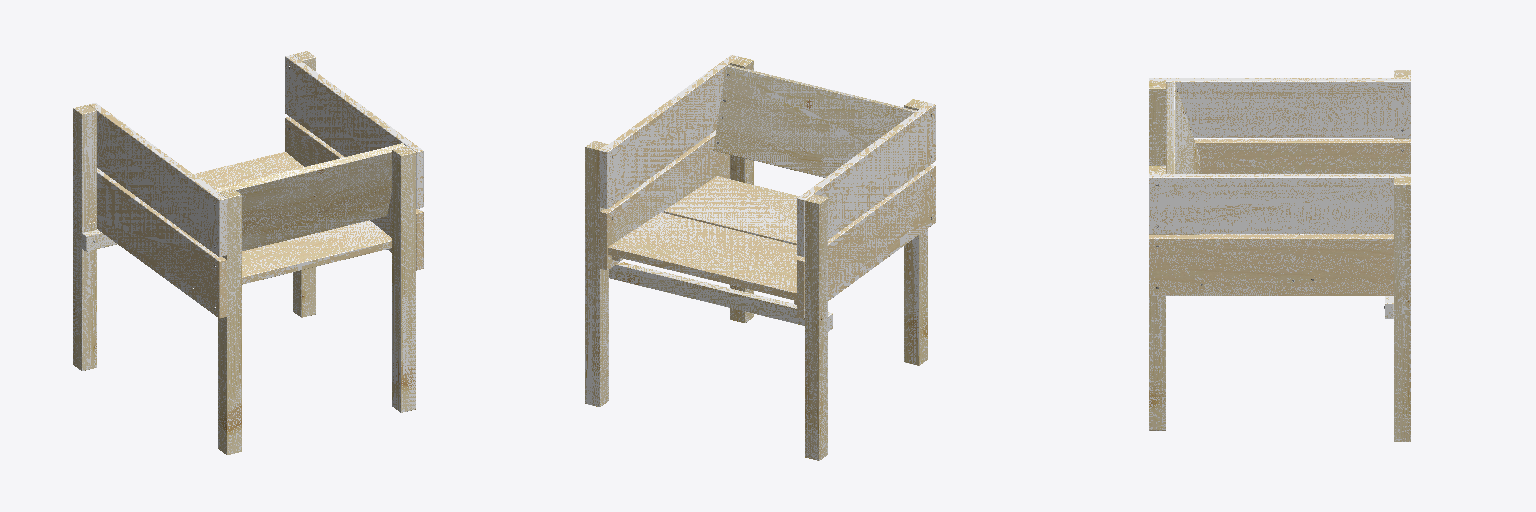
3 renders of one model, left to right at view 1: azimuth 30°, elevation 25°; view 2: azimuth 150°, elevation 25°; view 3: azimuth 270°, elevation 25°, orthographic.
Visible parts, largest first — view 1: mesh19_mesh19-geometry, mesh1_mesh1-geometry, mesh6_mesh6-geometry, mesh12_mesh12-geometry, mesh33_mesh33-geometry, mesh32_mesh32-geometry, mesh16_mesh16-geometry, mesh18_mesh18-geometry, mesh38_mesh38-geometry, mesh14_mesh14-geometry; view 2: mesh12_mesh12-geometry, mesh19_mesh19-geometry, mesh33_mesh33-geometry, mesh1_mesh1-geometry, mesh6_mesh6-geometry, mesh16_mesh16-geometry, mesh38_mesh38-geometry, mesh14_mesh14-geometry, mesh29_mesh29-geometry, mesh18_mesh18-geometry, mesh32_mesh32-geometry; view 3: mesh38_mesh38-geometry, mesh33_mesh33-geometry, mesh1_mesh1-geometry, mesh6_mesh6-geometry, mesh14_mesh14-geometry, mesh32_mesh32-geometry, mesh19_mesh19-geometry, mesh18_mesh18-geometry.
Boxes of the visible parts, x1=… form: mesh19_mesh19-geometry: x1=214, y1=143, x2=404, y2=250; mesh1_mesh1-geometry: x1=89, y1=103, x2=226, y2=256; mesh6_mesh6-geometry: x1=97, y1=168, x2=226, y2=318; mesh12_mesh12-geometry: x1=194, y1=152, x2=391, y2=284; mesh33_mesh33-geometry: x1=285, y1=55, x2=423, y2=208; mesh32_mesh32-geometry: x1=392, y1=146, x2=415, y2=412; mesh16_mesh16-geometry: x1=73, y1=105, x2=96, y2=370; mesh18_mesh18-geometry: x1=218, y1=189, x2=241, y2=454; mesh38_mesh38-geometry: x1=285, y1=117, x2=423, y2=270; mesh14_mesh14-geometry: x1=293, y1=51, x2=315, y2=317; mesh12_mesh12-geometry: x1=608, y1=176, x2=800, y2=300; mesh19_mesh19-geometry: x1=713, y1=65, x2=916, y2=177; mesh33_mesh33-geometry: x1=600, y1=55, x2=738, y2=208; mesh1_mesh1-geometry: x1=797, y1=103, x2=935, y2=256; mesh6_mesh6-geometry: x1=797, y1=165, x2=935, y2=318; mesh16_mesh16-geometry: x1=805, y1=194, x2=827, y2=460; mesh38_mesh38-geometry: x1=600, y1=130, x2=729, y2=270; mesh14_mesh14-geometry: x1=585, y1=141, x2=608, y2=406; mesh29_mesh29-geometry: x1=609, y1=262, x2=832, y2=331; mesh18_mesh18-geometry: x1=904, y1=99, x2=927, y2=365; mesh32_mesh32-geometry: x1=730, y1=57, x2=753, y2=322; mesh38_mesh38-geometry: x1=1149, y1=235, x2=1393, y2=295; mesh33_mesh33-geometry: x1=1149, y1=174, x2=1410, y2=233; mesh1_mesh1-geometry: x1=1149, y1=78, x2=1410, y2=137; mesh6_mesh6-geometry: x1=1166, y1=139, x2=1410, y2=173; mesh14_mesh14-geometry: x1=1394, y1=177, x2=1410, y2=441; mesh32_mesh32-geometry: x1=1149, y1=166, x2=1165, y2=430; mesh19_mesh19-geometry: x1=1167, y1=81, x2=1199, y2=234; mesh18_mesh18-geometry: x1=1149, y1=81, x2=1165, y2=165.
Size of the model in its own units: 0.574 by 0.6017 by 0.5554.
Materials: 5 (2 with a texture image).